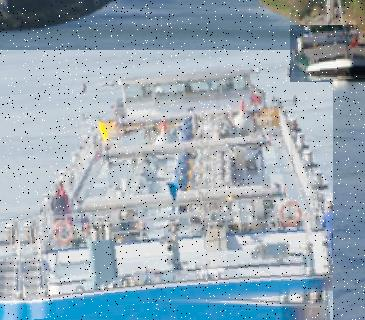Ship: (0, 50, 333, 320), (290, 25, 365, 82)
